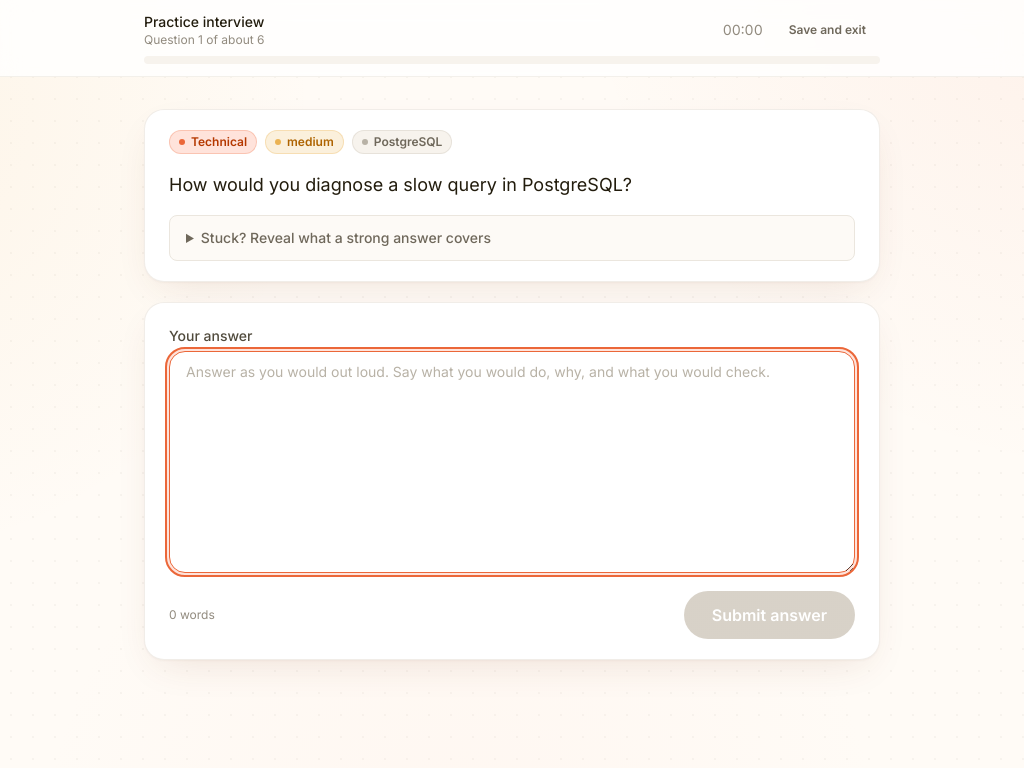
Test case: InterviewRoom › keeps the expected points hidden until the candidate asks for them
Expected: the text "How would you diagnose a slow query in PostgreSQL?" is shown, 169,174 -> 632,195
Expected: the text "Use EXPLAIN ANALYZE" is not shown
Click the heading "Stuck? Reveal what a strong answer covers" at (346, 238), box 201,229 -> 491,246
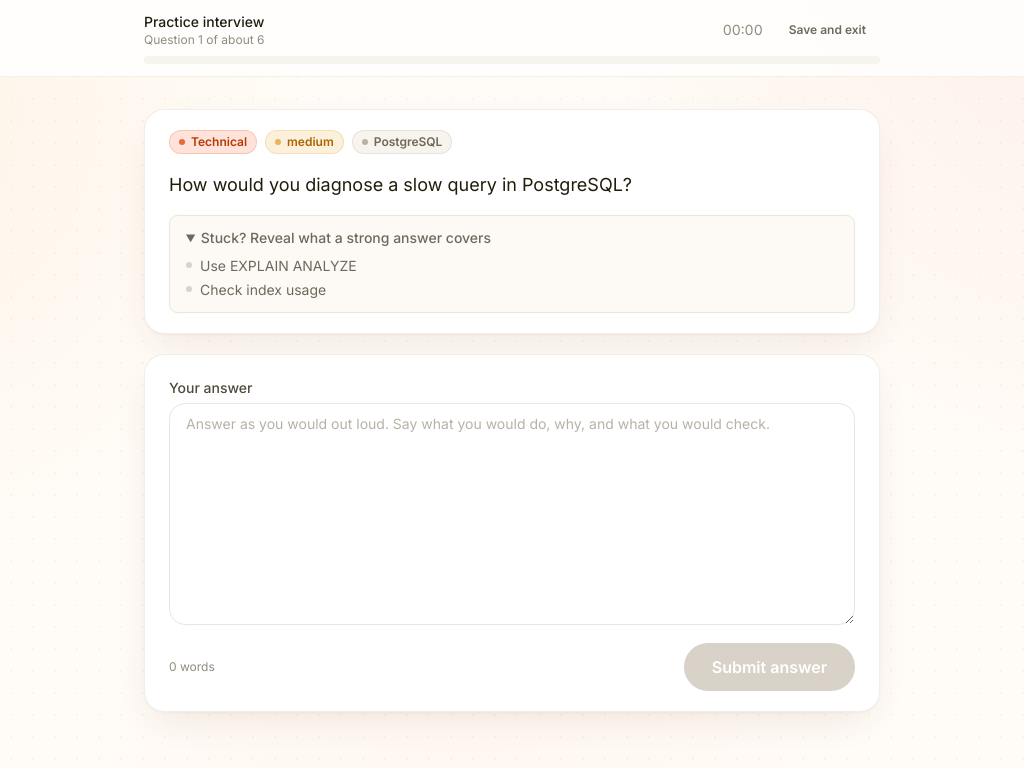
Now the text "Use EXPLAIN ANALYZE" is shown, box 200,256 -> 357,276
